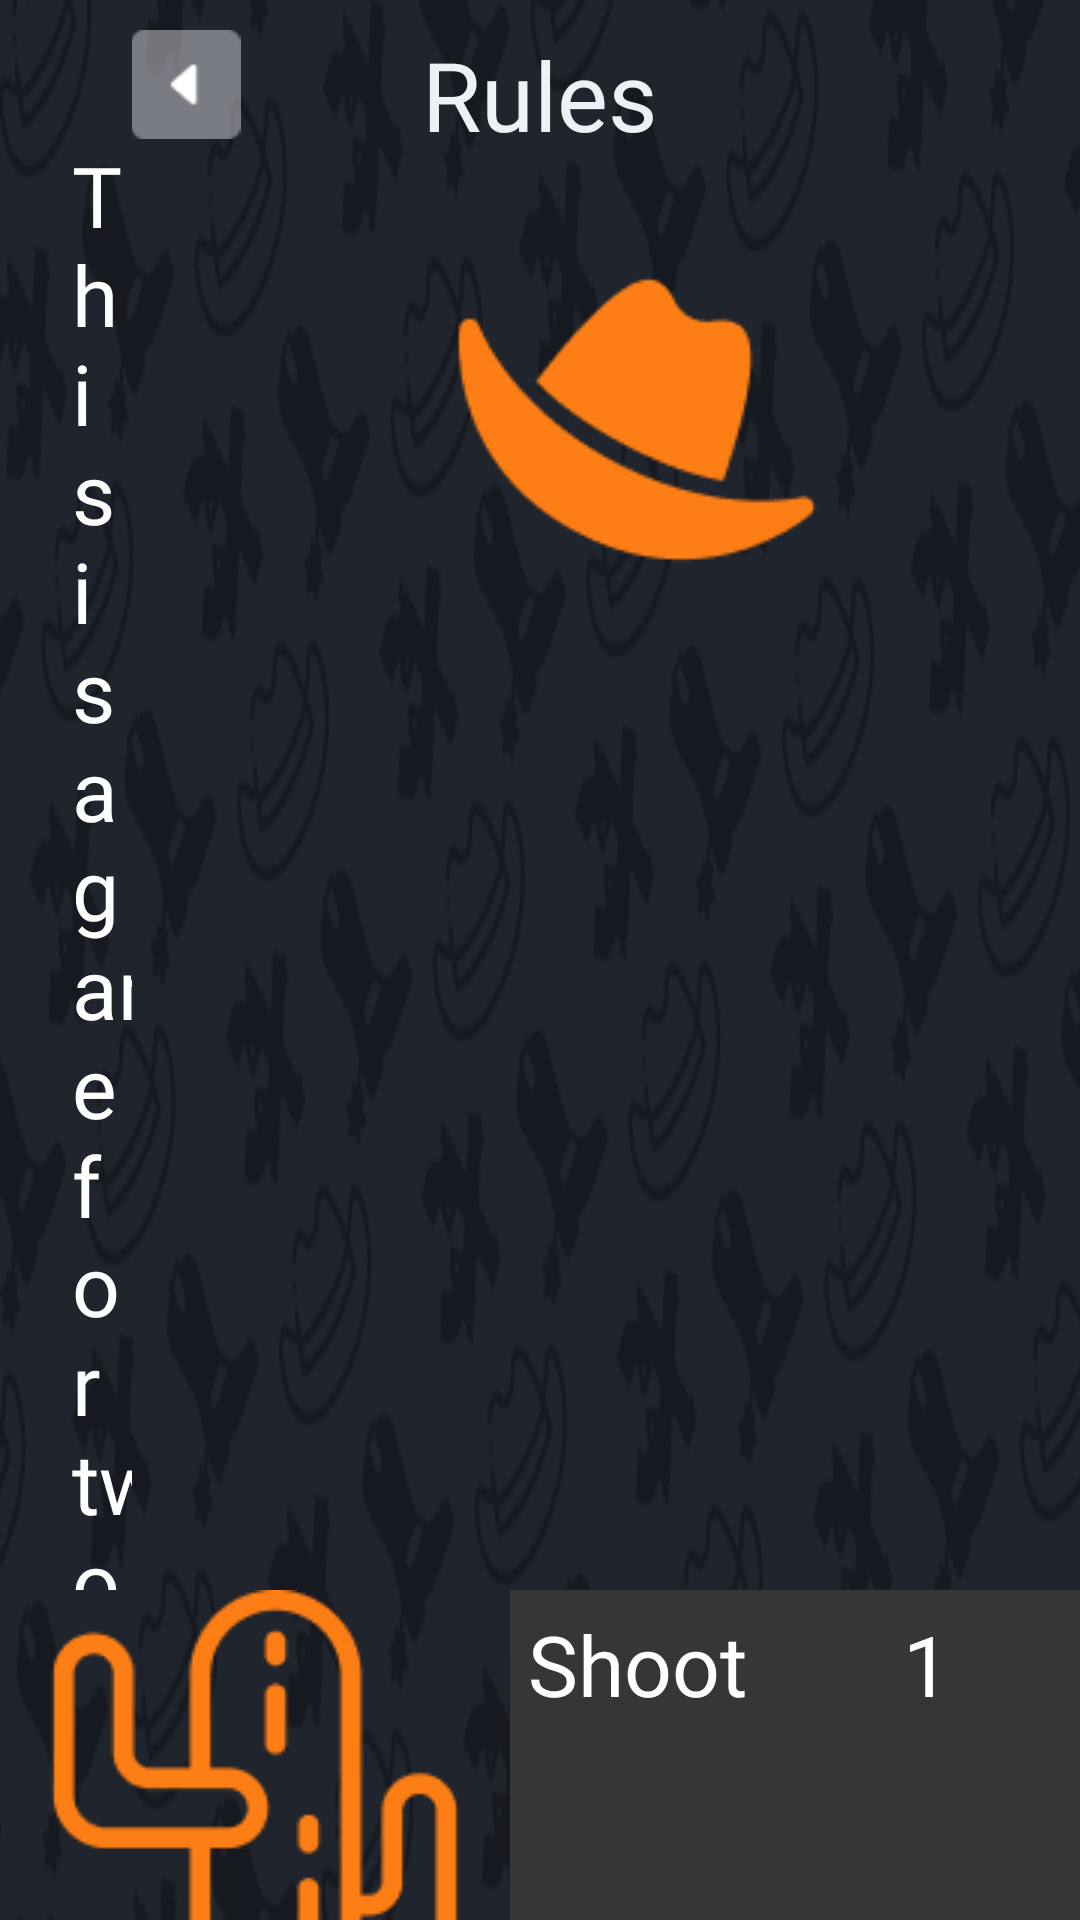

Icon bounding boxes for this 1080*1920 phone screenshot, format box(x1, y1, x2, y2):
back: box(132, 30, 241, 139)
hat: box(458, 278, 816, 561)
